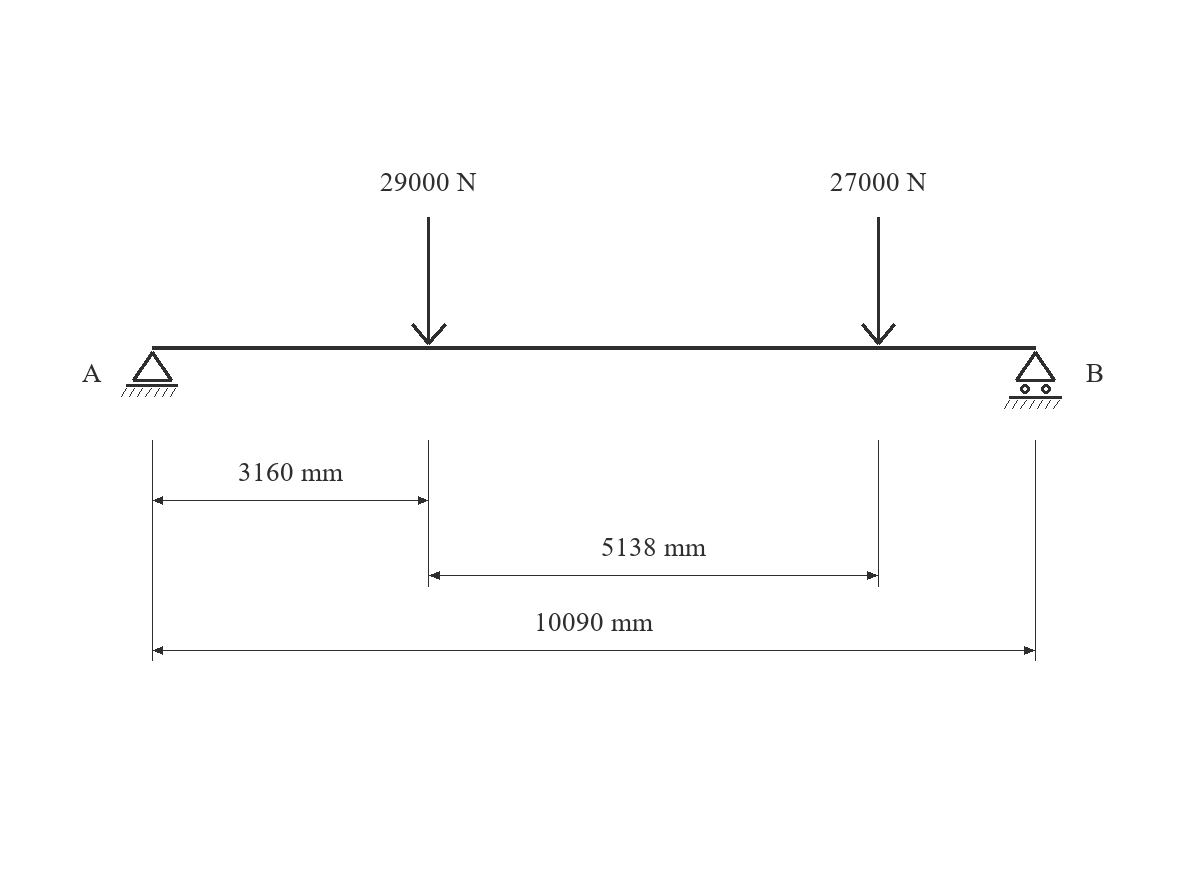pin_support: (121, 351, 178, 397)
point_load: (411, 217, 447, 345), (861, 217, 896, 345)
roller_support: (1004, 351, 1062, 409)
